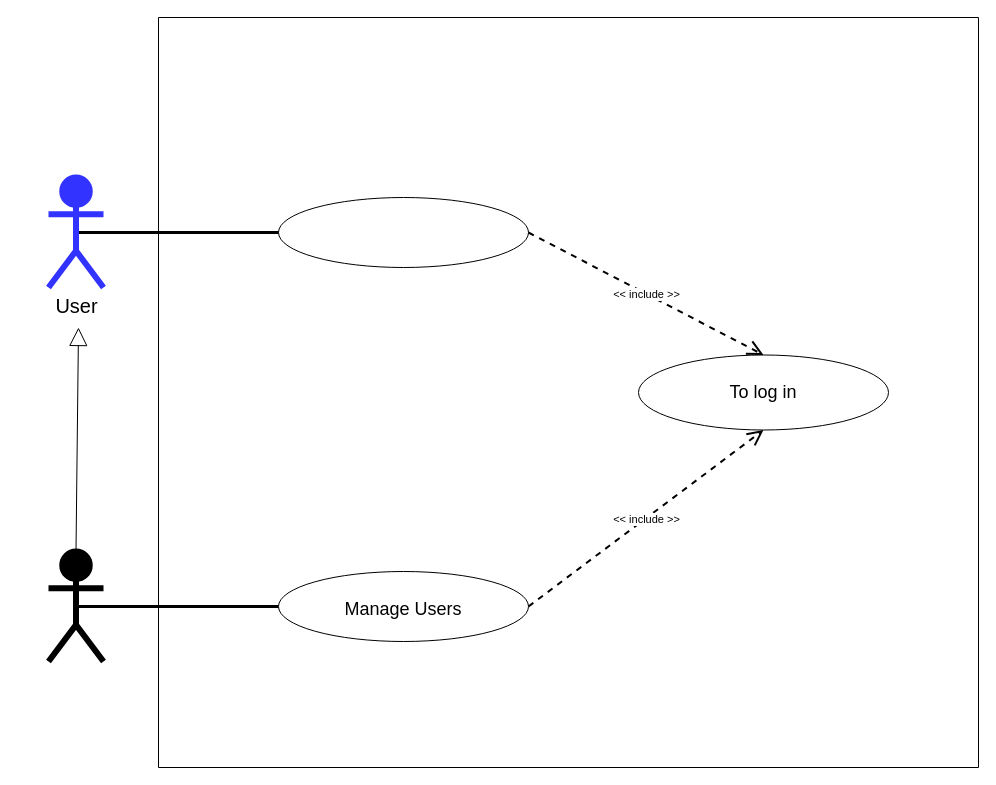
Some shapes in this 996 by 785 pixel diagram are drawn without their labels. The box of each missing label's shape, as (x1, y1, x2, y2) in pixels:
Administrator: (45, 548, 106, 664)
Manage Tasks: (278, 196, 528, 268)
